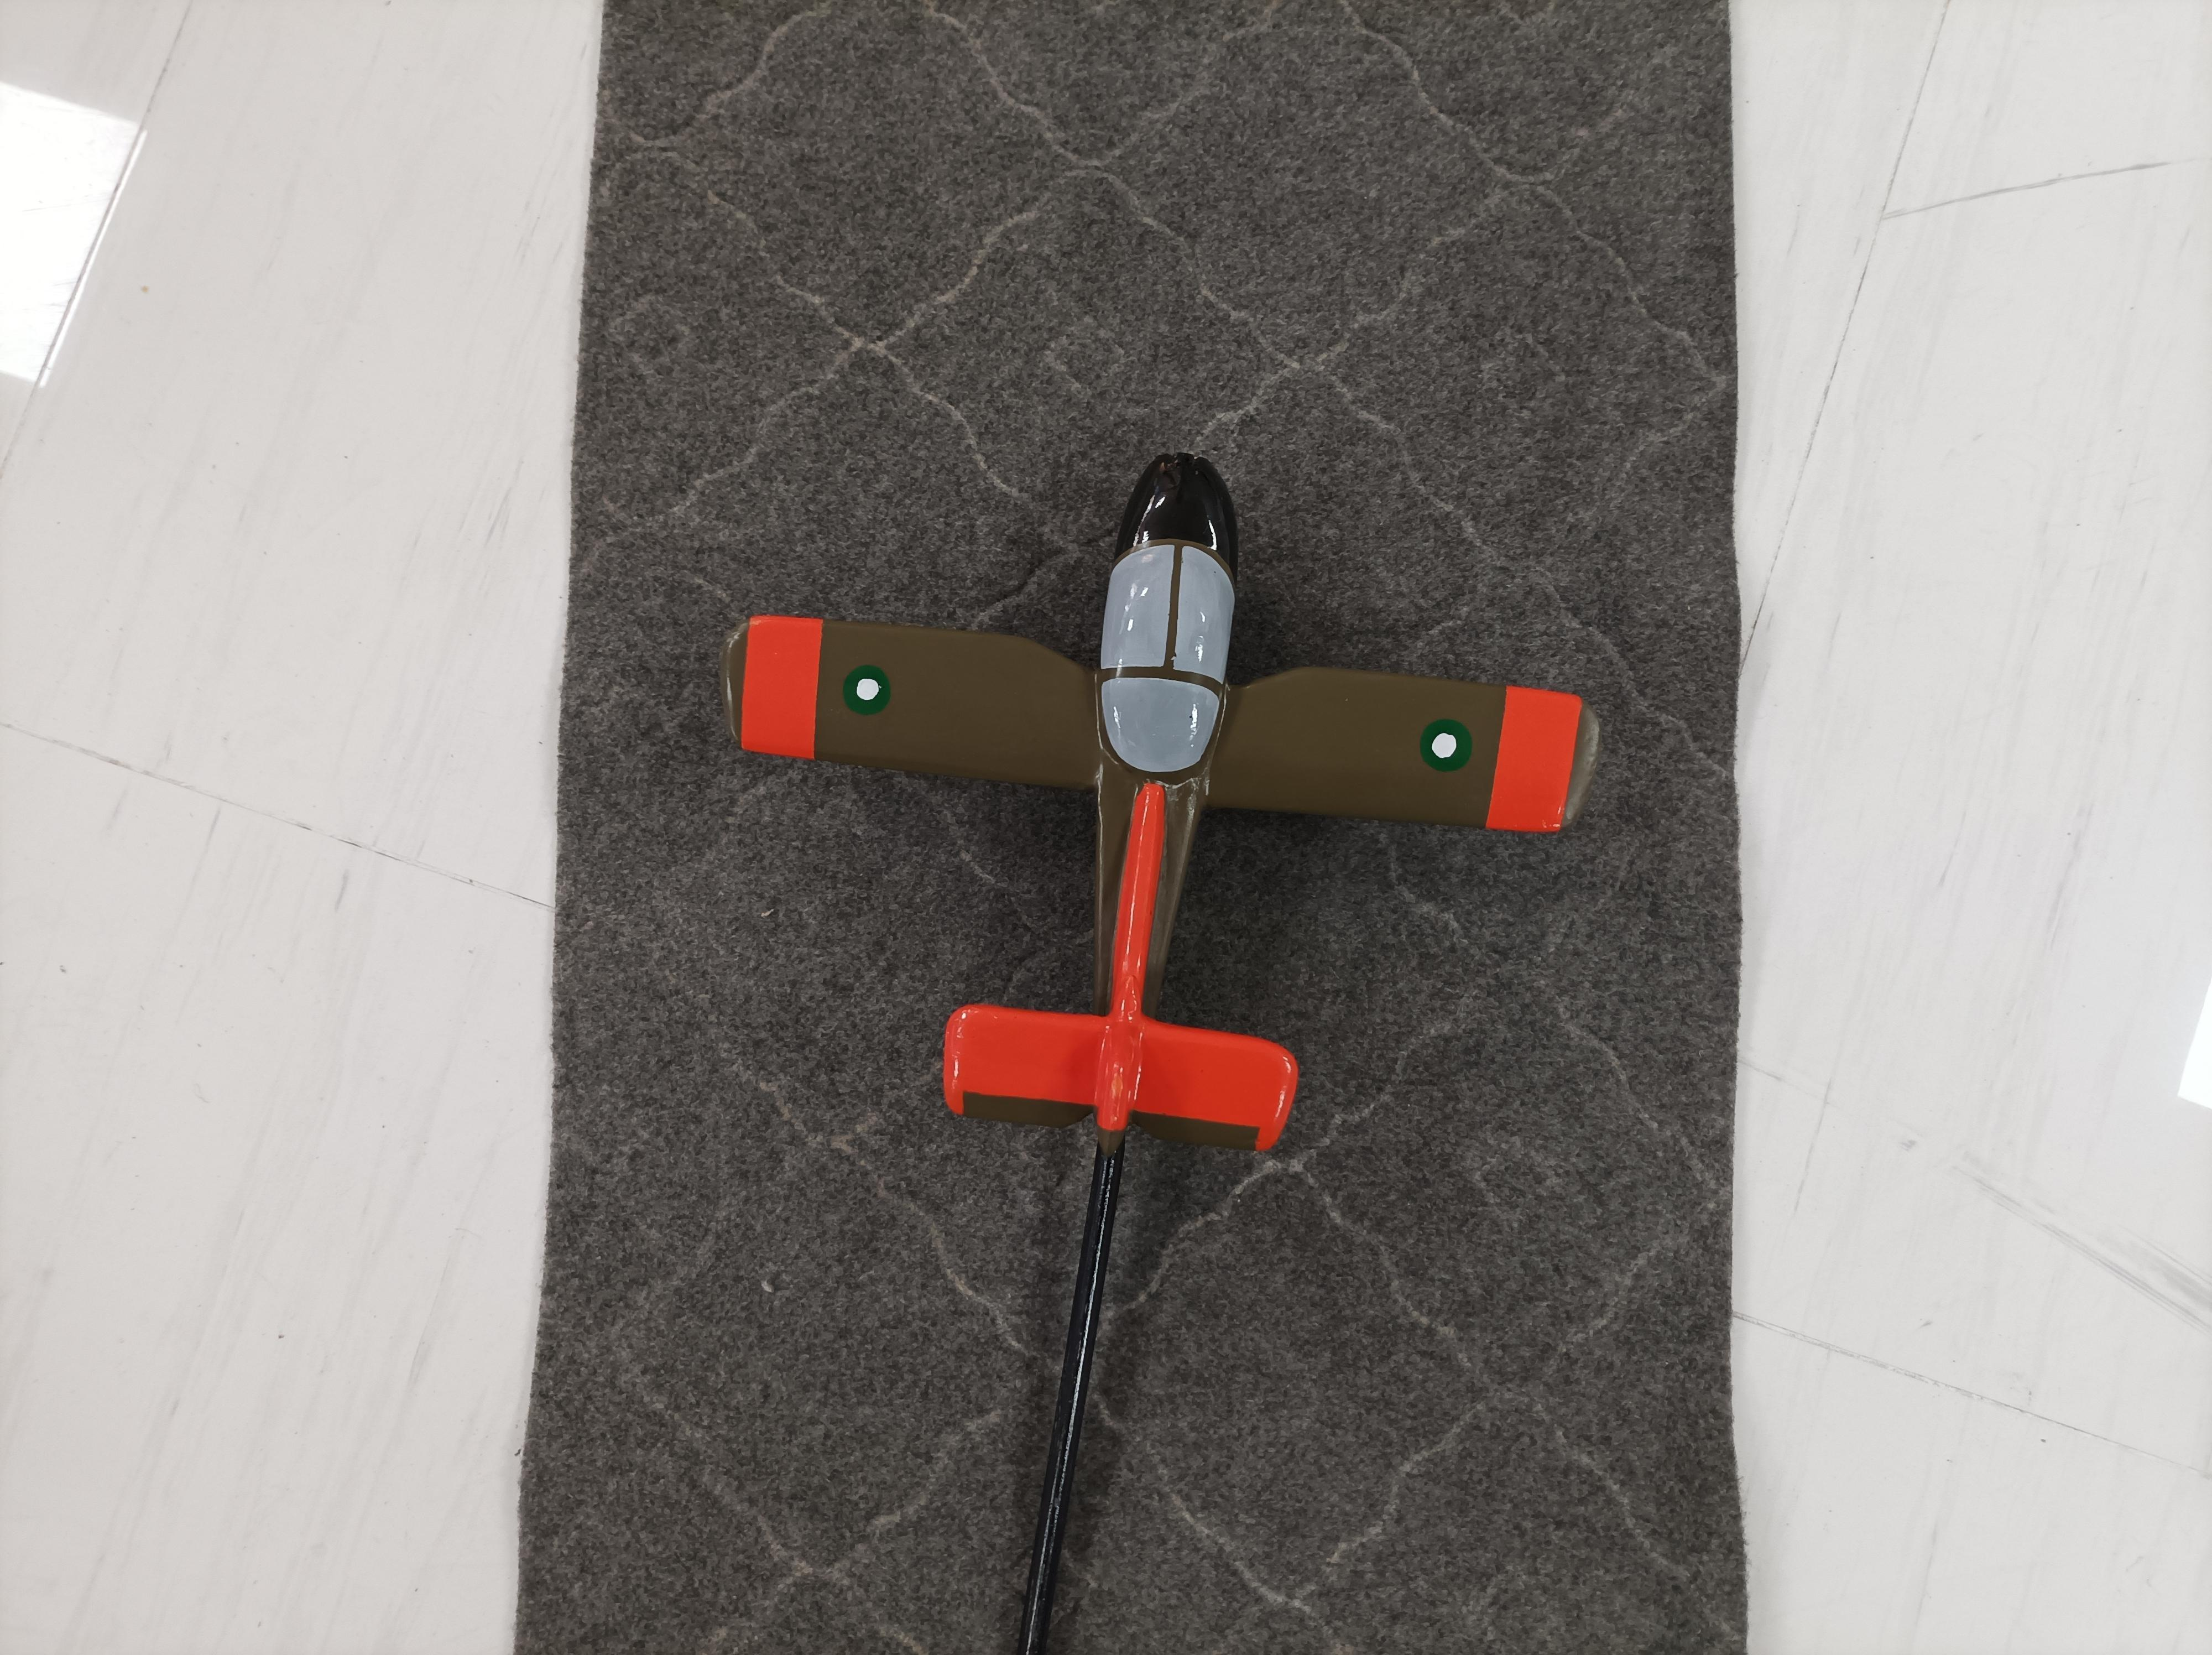Airplane: (700, 426, 1632, 1173)
